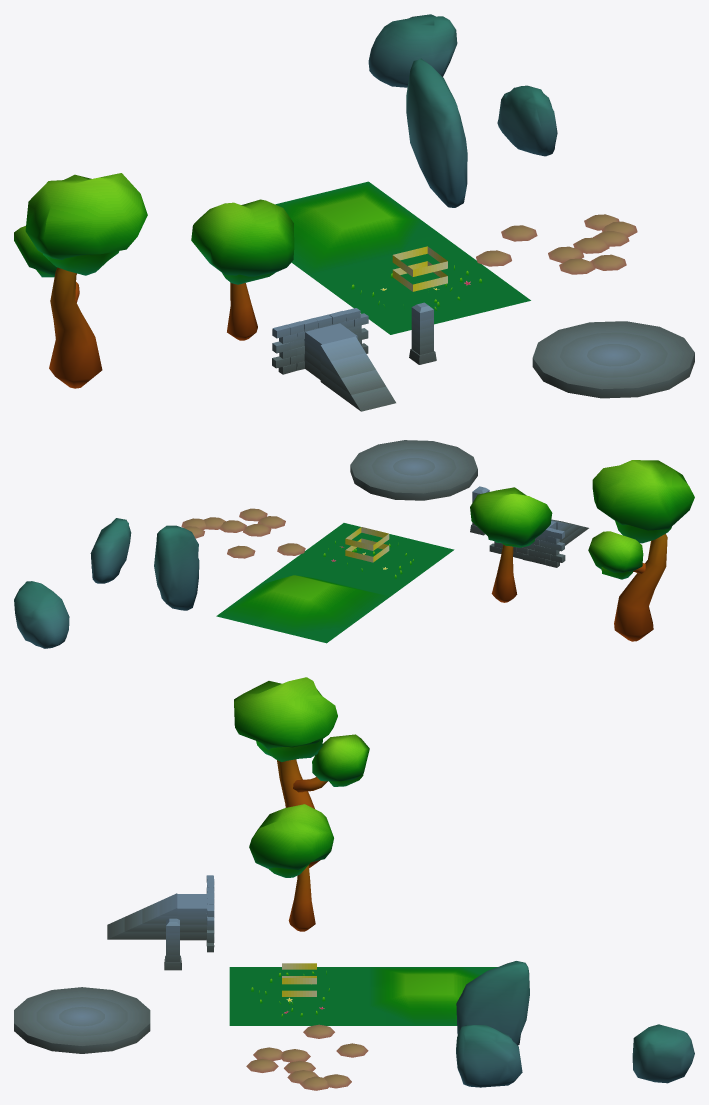
File: nature assets.fbx
3 renders of one model, top to bottom at view 1: azimuth 30°, elevation 25°; view 2: azimuth 150°, elevation 25°; view 3: azimuth 270°, elevation 25°, orthographic. The views are drawn at different scales.
Parts seen in each view (by area): view 1: tree_2_2, Cylinder, grass_tile, upraised_tile, tree_2, rock_2, rock_3, hill_patch, incline, rock_1, brick_wall, Cube (+2 smaller); view 2: tree_2_2, upraised_tile, Cylinder, grass_tile, tree_2, rock_2, rock_3, hill_patch, rock_1, brick_wall, Cube, incline; view 3: tree_2_2, grass_tile, Cylinder, upraised_tile, tree_2, rock_2, rock_1, rock_3, hill_patch, incline, cube, Cube (+2 smaller).
Boxes of the visible parts, x1,y1,x2,y2 form: tree_2_2: [14, 173, 147, 388]; Cylinder: [532, 321, 694, 398]; grass_tile: [309, 241, 530, 334]; upraised_tile: [275, 181, 449, 275]; tree_2: [191, 199, 294, 340]; rock_2: [406, 58, 467, 207]; rock_3: [368, 14, 457, 87]; hill_patch: [476, 214, 637, 274]; incline: [320, 336, 395, 411]; rock_1: [497, 85, 557, 156]; brick_wall: [272, 308, 368, 374]; Cube: [392, 246, 447, 291]; tree_2_2: [588, 460, 694, 641]; upraised_tile: [216, 569, 390, 643]; Cylinder: [350, 440, 477, 500]; grass_tile: [280, 523, 454, 596]; tree_2: [470, 487, 552, 602]; rock_2: [154, 525, 199, 610]; rock_3: [14, 581, 69, 648]; hill_patch: [181, 508, 305, 558]; rock_1: [90, 518, 131, 583]; brick_wall: [489, 527, 565, 567]; Cube: [345, 527, 389, 562]; incline: [551, 519, 588, 545]; tree_2_2: [234, 677, 369, 868]; grass_tile: [229, 967, 369, 1025]; Cylinder: [14, 987, 150, 1053]; upraised_tile: [369, 967, 497, 1025]; tree_2: [249, 804, 333, 931]; rock_2: [456, 961, 529, 1045]; rock_1: [456, 1025, 522, 1087]; rock_3: [632, 1024, 694, 1083]; hill_patch: [246, 1024, 368, 1090]; incline: [107, 893, 177, 939]; cube: [177, 894, 206, 940]; Cube: [282, 963, 316, 996].
Bounding box in the file's own units: 1801 × 604 × 1948.
1 material, 1 textured.
